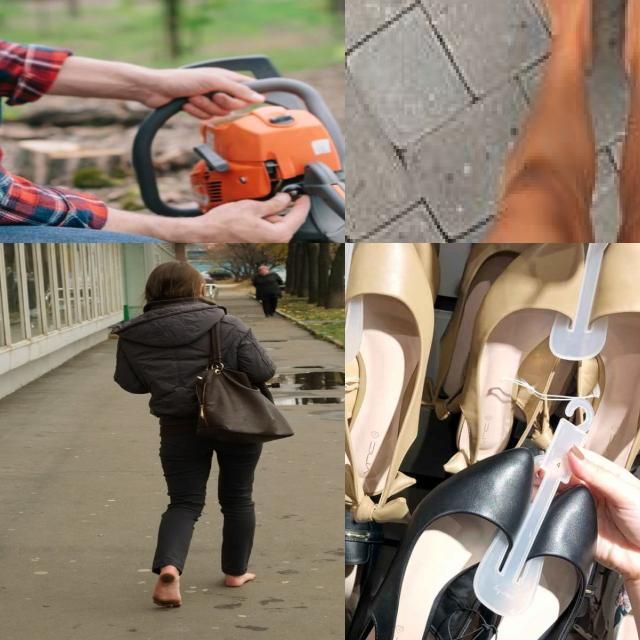Barefoots: (152, 568, 182, 608), (225, 573, 256, 587)
Sandals: (345, 443, 613, 640), (345, 243, 449, 538)
